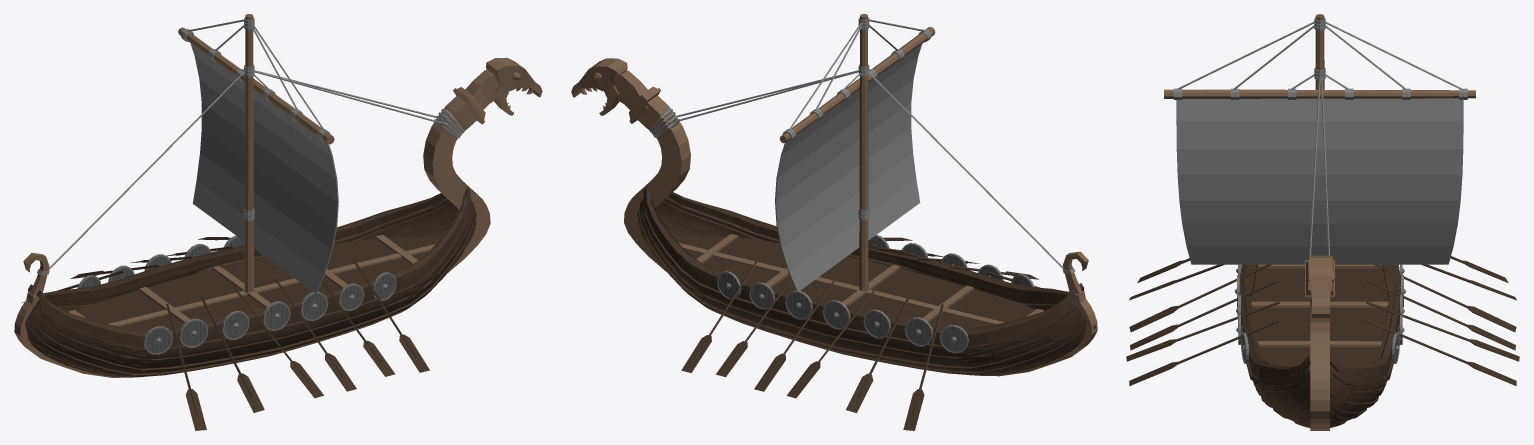
The model's file is SM_longboat_small_01.fbx.
3 views of the same model, side by side, from view 1: azimuth 30°, elevation 25°; view 2: azimuth 150°, elevation 25°; view 3: azimuth 270°, elevation 25° (orthographic). The views are drawn at different scales.
Parts seen in each view (by area): view 1: Object437; view 2: Object437; view 3: Object437.
Part boxes in pixels (x1,y1,x2,y2): Object437: (14,14,542,430); Object437: (571,14,1097,430); Object437: (1126,14,1519,430).
Bounding box in the file's own units: 530 × 327 × 330.
